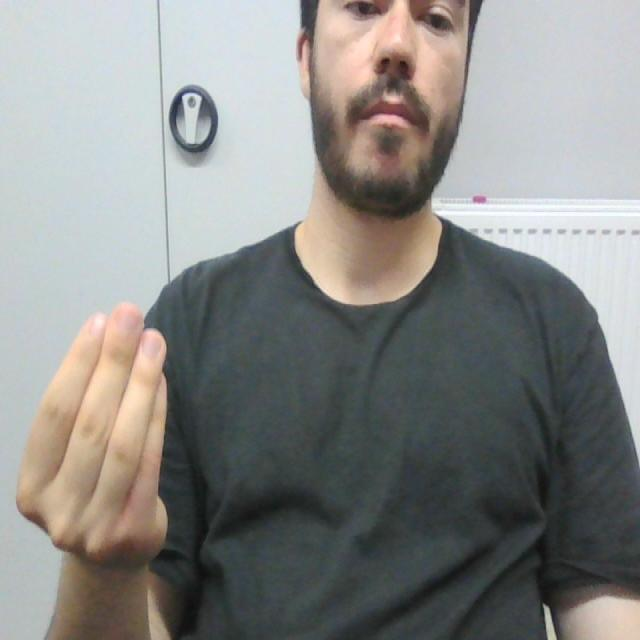iyi: (11, 293, 172, 565)
